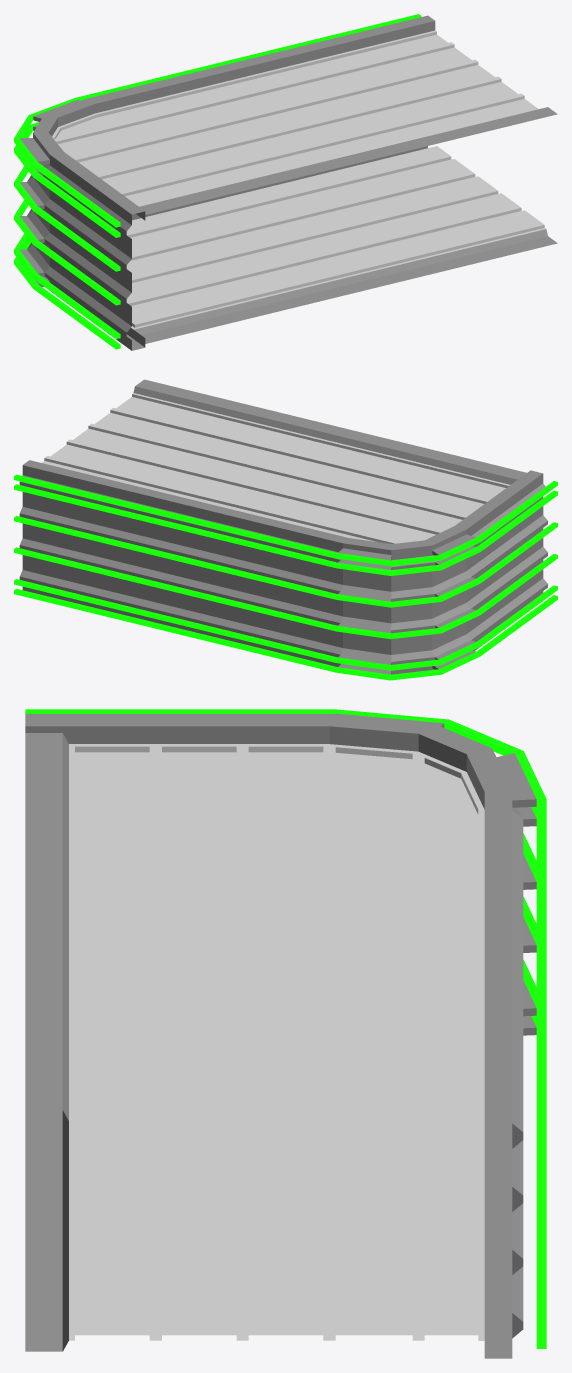
Rendered from Door_Eaves_03_Corner.FBX.
The picture shows the model from 3 angles, top to bottom: view 1: azimuth 30°, elevation 25°; view 2: azimuth 150°, elevation 25°; view 3: azimuth 270°, elevation 25°; orthographic projection. The views are drawn at different scales.
Visible parts, largest first — view 1: Door_Eaves_03_Corner_LOD0; view 2: Door_Eaves_03_Corner_LOD0; view 3: Door_Eaves_03_Corner_LOD0.
Boxes of the visible parts, x1,y1,x2,y2 form: Door_Eaves_03_Corner_LOD0: (14, 14, 557, 350); Door_Eaves_03_Corner_LOD0: (14, 379, 557, 680); Door_Eaves_03_Corner_LOD0: (25, 709, 546, 1358).
Size of what is drawn, in the model's own units: 83.25 by 24.54 by 45.4.
